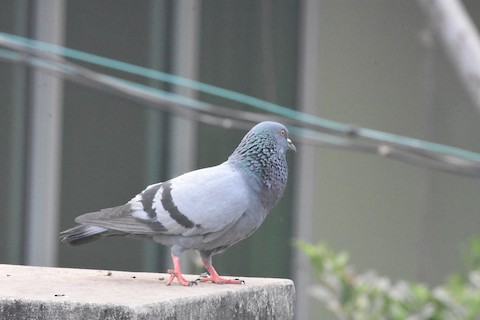pigeon: (56, 115, 300, 290)
